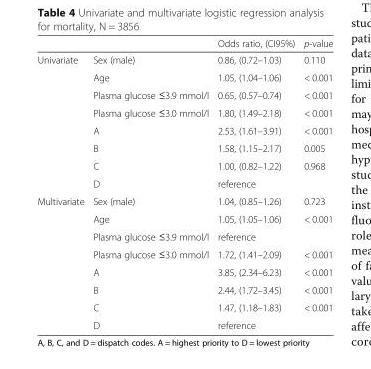table: (36, 37, 332, 330)
table column: (87, 37, 212, 330), (212, 37, 298, 330), (36, 37, 87, 330), (298, 37, 332, 330)
table column header: (36, 37, 332, 51)
table row: (36, 85, 332, 103), (36, 103, 332, 121), (36, 121, 332, 139), (36, 156, 332, 174), (36, 174, 332, 192), (36, 209, 332, 227), (36, 227, 332, 245), (36, 262, 332, 280), (36, 280, 332, 298), (36, 298, 332, 316), (36, 51, 332, 68), (36, 68, 332, 85), (36, 139, 332, 156), (36, 192, 332, 209), (36, 245, 332, 262), (36, 37, 332, 51), (36, 316, 332, 330)
table spanning cell: (36, 51, 87, 192), (36, 192, 87, 330)
